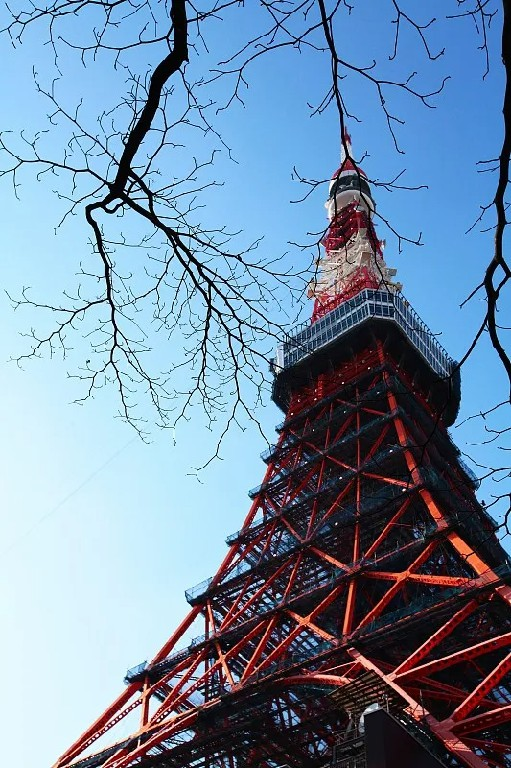Tokyo: (52, 124, 511, 767)
